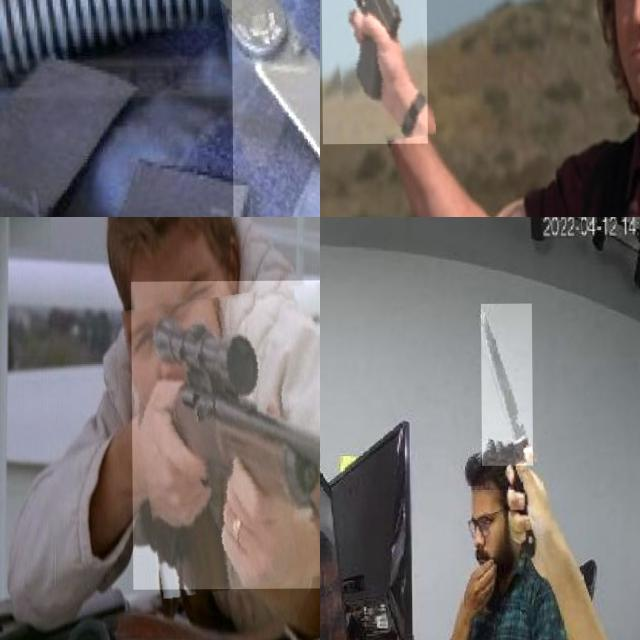-: (231, 0, 320, 217), (480, 304, 532, 466)
gun-knife-thesis - v11 Yolov5 augmented: (130, 281, 320, 590), (320, 0, 427, 144)
